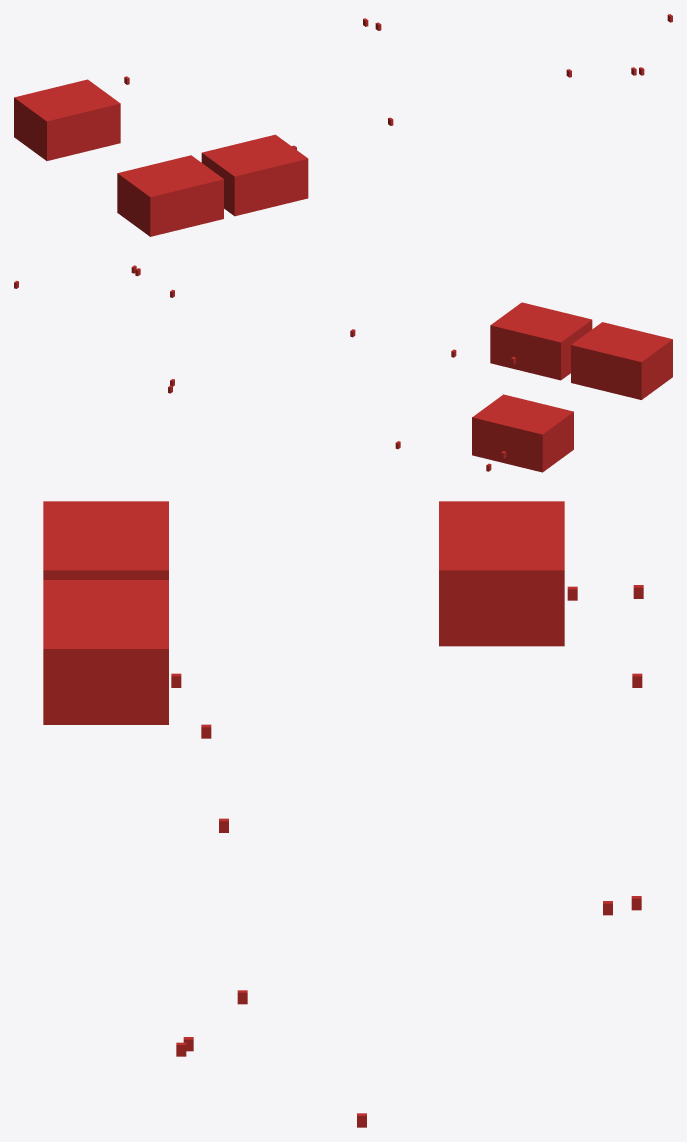
The model's file is SM_DK_09_Paddock_transporters_tents_and_service_equipment_red.fbx.
3 renders of one model, top to bottom at view 1: azimuth 30°, elevation 25°; view 2: azimuth 150°, elevation 25°; view 3: azimuth 270°, elevation 25°, orthographic. The views are drawn at different scales.
Parts seen in each view (by area): view 1: 09 Paddock transporters tents and service equipment | red; view 2: 09 Paddock transporters tents and service equipment | red; view 3: 09 Paddock transporters tents and service equipment | red.
Part boxes in pixels (x1,y1,x2,y2): 09 Paddock transporters tents and service equipment | red: (14, 14, 672, 236); 09 Paddock transporters tents and service equipment | red: (14, 265, 672, 472); 09 Paddock transporters tents and service equipment | red: (43, 501, 643, 1127).
Size of the model in its own units: 5736 by 2580 by 360.
